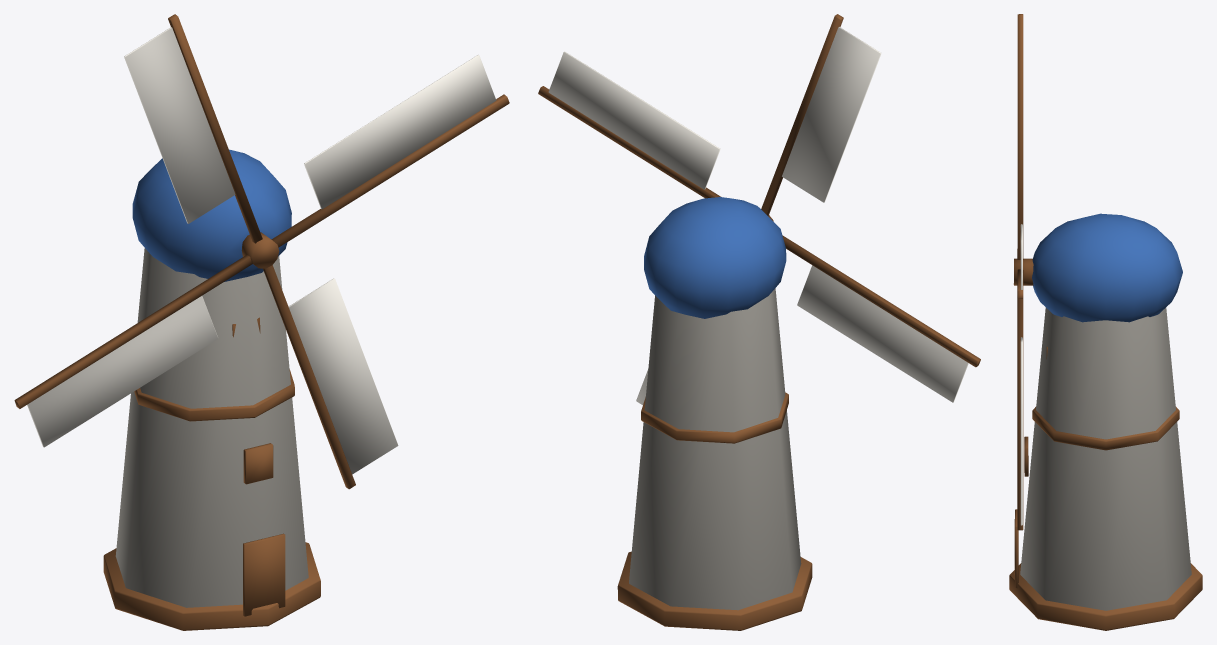
The model's file is windmill_lod.glb.
3 views of the same model, side by side, from view 1: azimuth 30°, elevation 25°; view 2: azimuth 150°, elevation 25°; view 3: azimuth 270°, elevation 25° (orthographic). The views are drawn at different scales.
Visible parts, largest first — view 1: windmill_lod; view 2: windmill_lod; view 3: windmill_lod.
Part boxes in pixels (bbox=[...]): windmill_lod: bbox=[14, 14, 509, 630]; windmill_lod: bbox=[538, 14, 980, 630]; windmill_lod: bbox=[1009, 14, 1202, 630].
Size of the model in its own units: 10.57 by 12.88 by 4.18.
